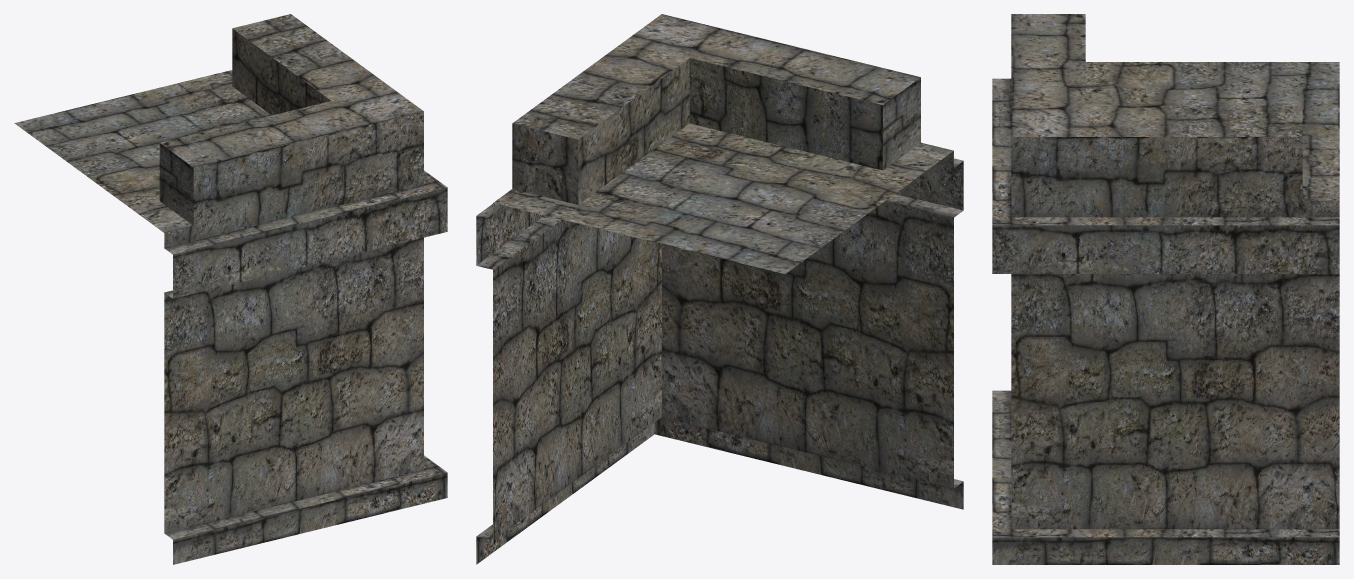
Rendered from Fort_10000011.gltf.
3 renders of one model, left to right at view 1: azimuth 30°, elevation 25°; view 2: azimuth 150°, elevation 25°; view 3: azimuth 270°, elevation 25°, orthographic. The views are drawn at different scales.
Visible parts, largest first — view 1: Claimed_10000011; view 2: Claimed_10000011; view 3: Claimed_10000011.
Part boxes in pixels (left/top/right/bottom): Claimed_10000011: left=14, top=14, right=447, bottom=564; Claimed_10000011: left=476, top=14, right=963, bottom=564; Claimed_10000011: left=992, top=14, right=1339, bottom=564.
Bounding box in the file's own units: 2.5 × 3.34 × 2.5.
1 material, 1 textured.
